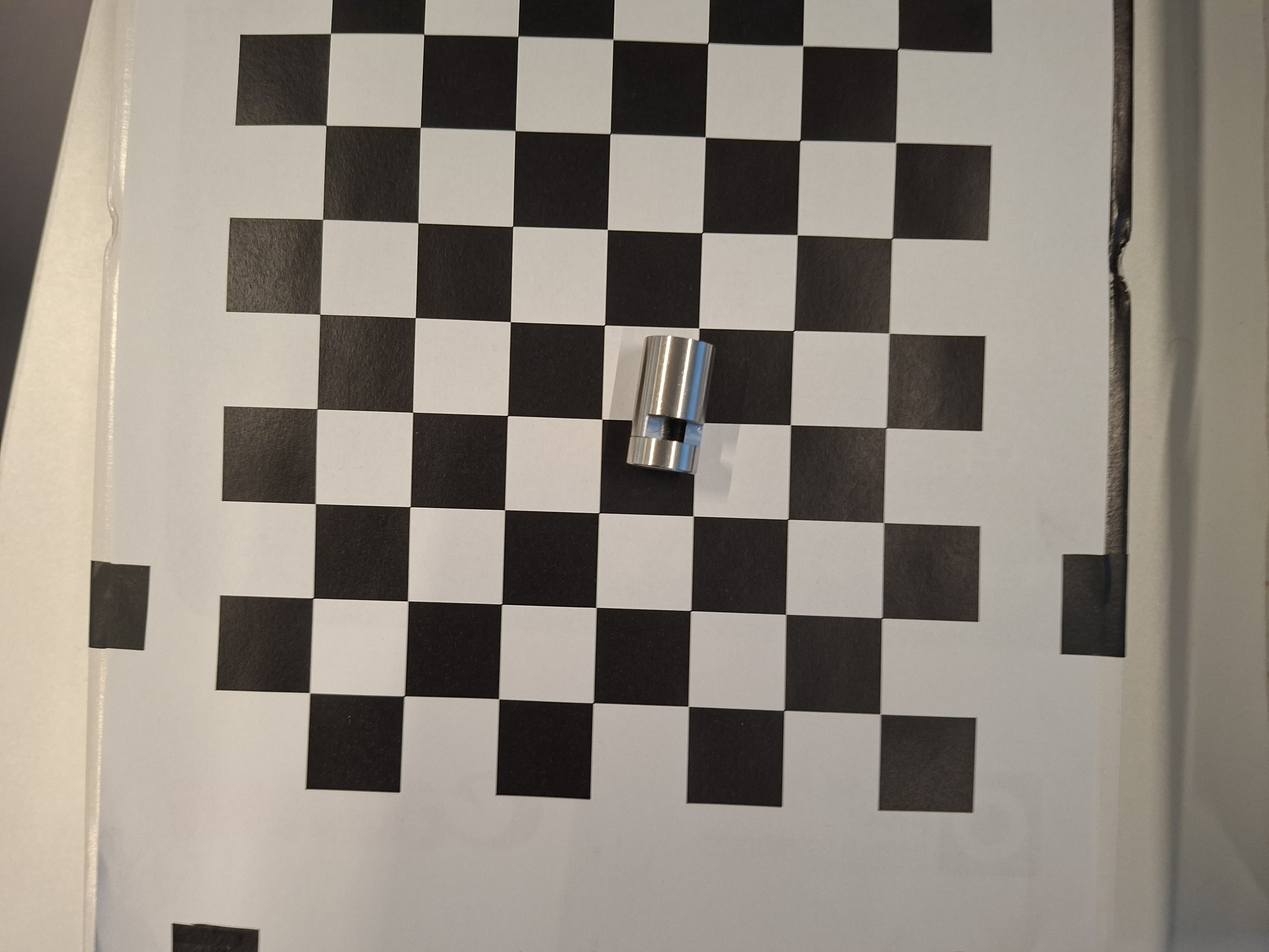barrel_nut: (617, 327, 724, 480)
